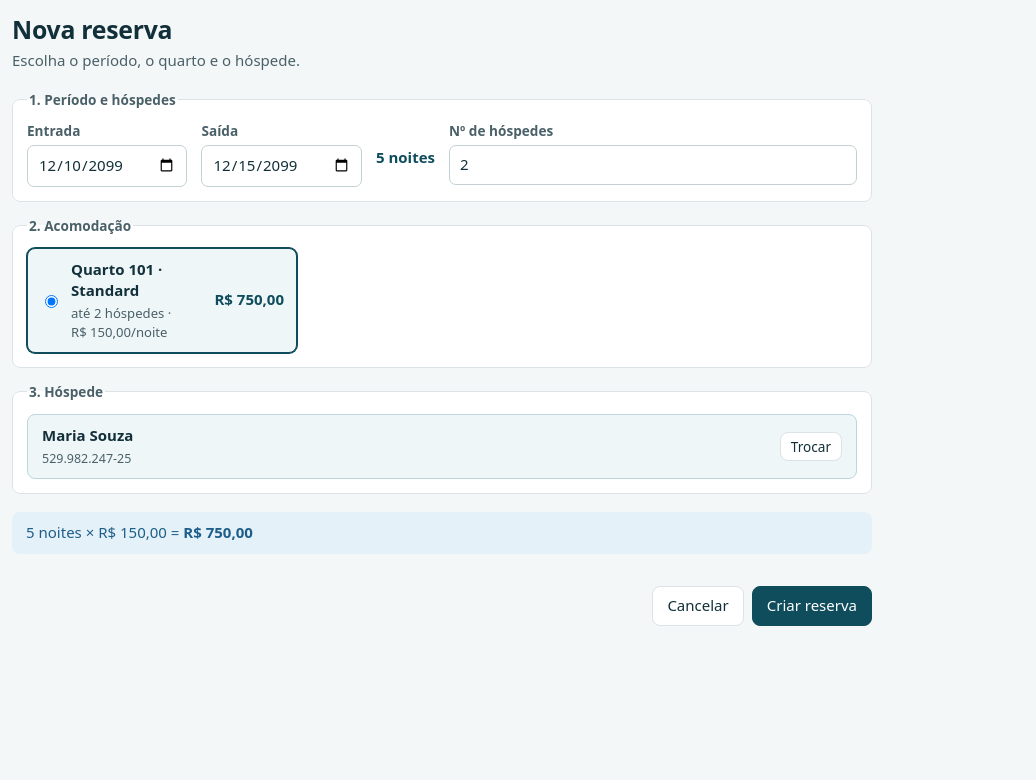
Test case: Nova reserva › mostra o 409 do anti-overbooking e mantém o formulário
Click the button "Criar reserva": (812, 606) [752,586,872,626]
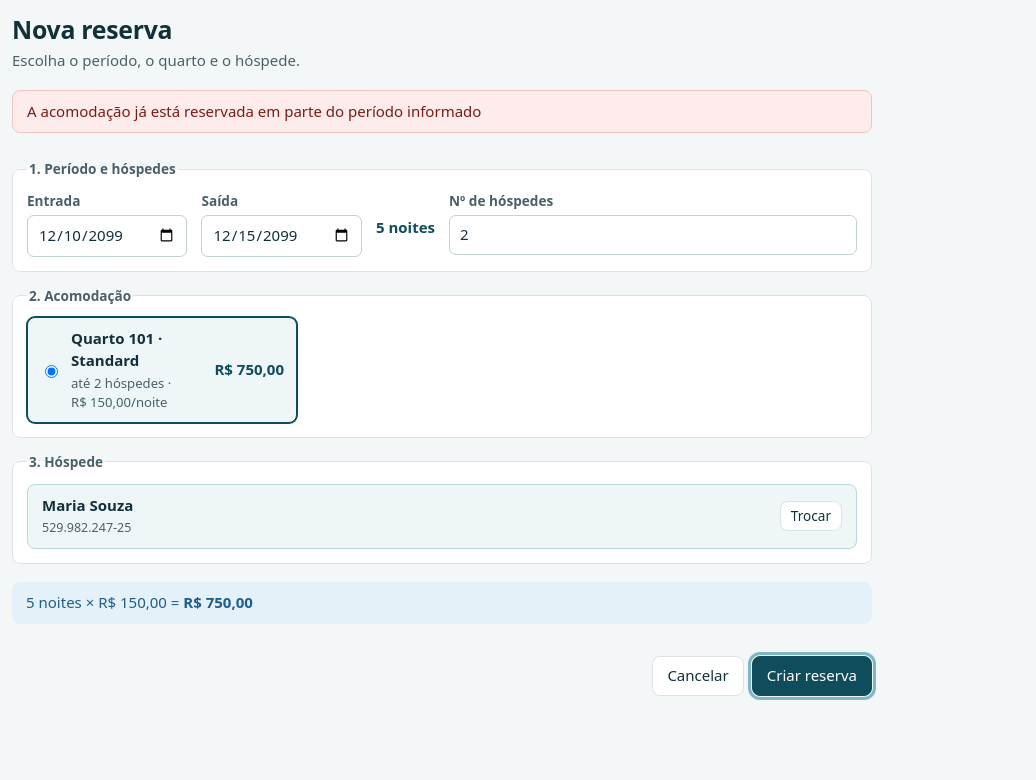
Expected: the button "Criar reserva" is shown, [752,656,872,696]
Expected: the message "A acomodação já está reservada em parte do período informado" is shown, [12,90,872,134]
